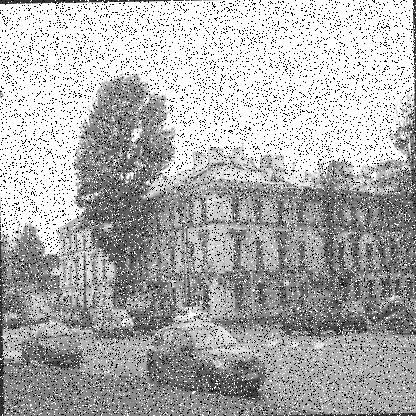Car: (145, 320, 266, 400), (280, 290, 346, 336), (21, 322, 82, 362), (364, 295, 410, 326), (90, 306, 132, 338), (2, 312, 96, 326), (386, 295, 415, 335), (340, 298, 366, 331), (386, 294, 414, 303)
